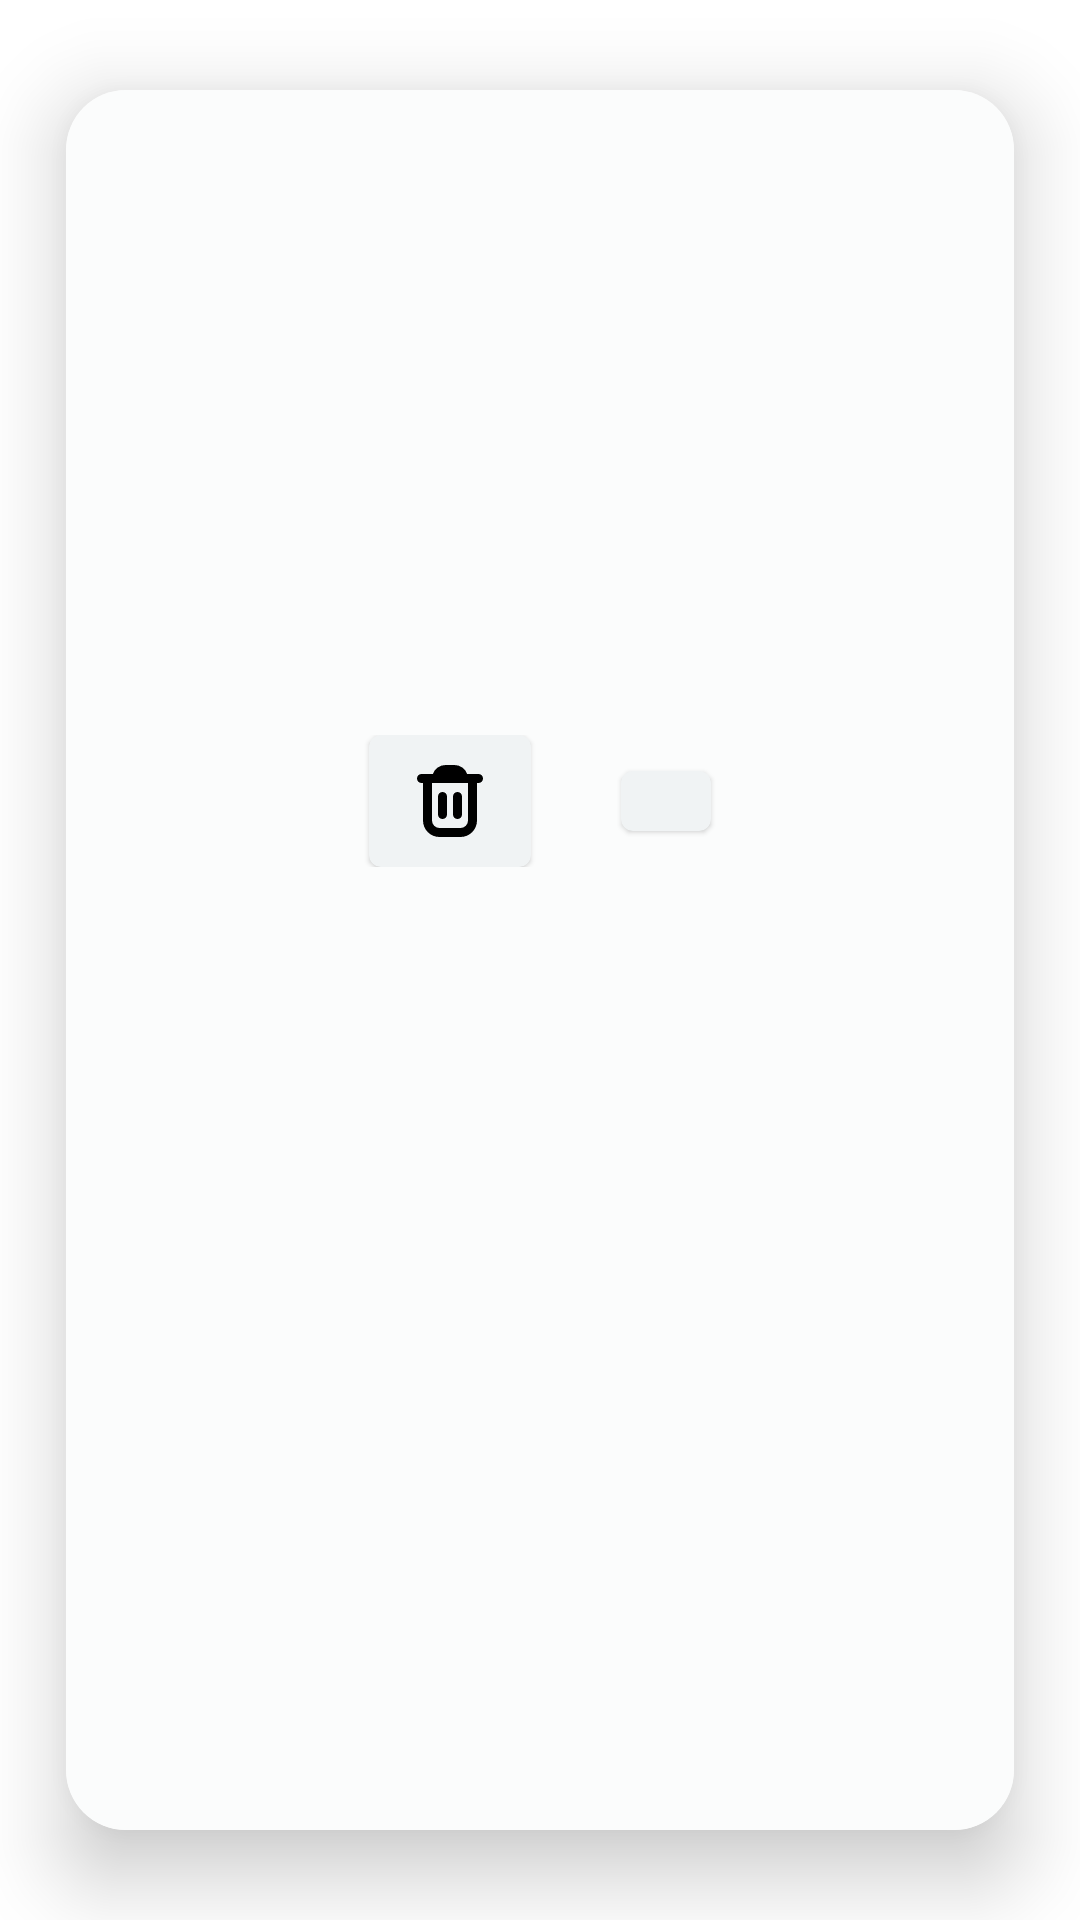

Icon bounding boxes for this 1080*1920 phone screenshot, format (x1, y1, x2, y2):
trash: (417, 765, 483, 837)
